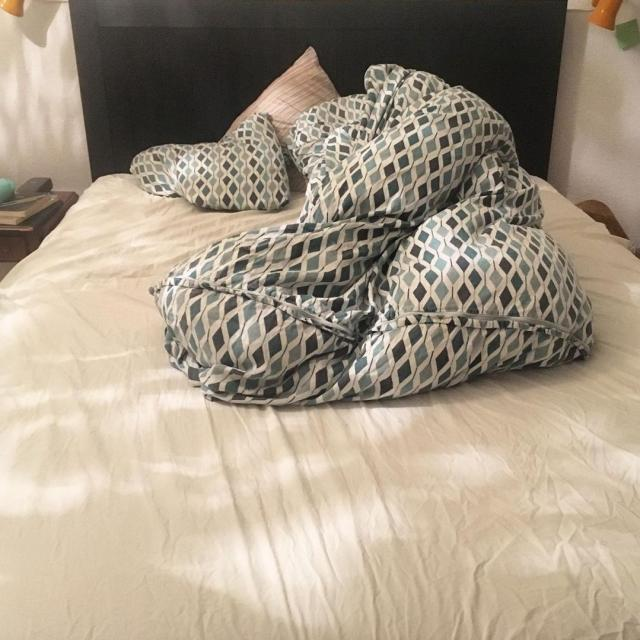bed: (18, 70, 640, 640)
